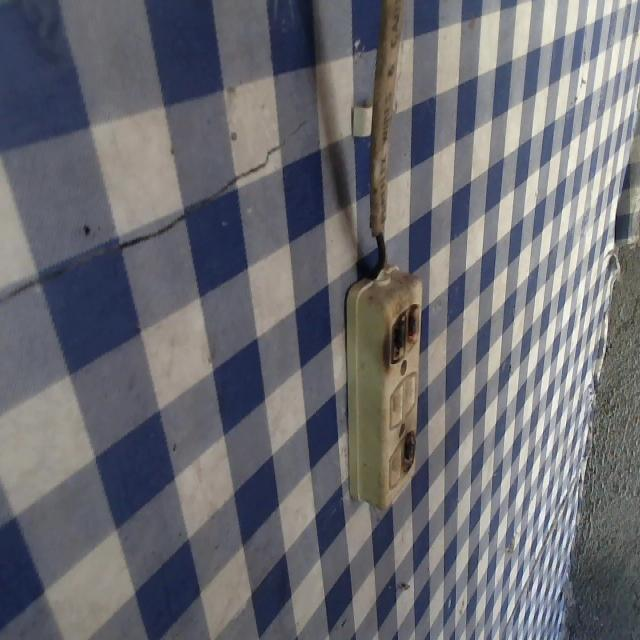-: (384, 304, 424, 364), (395, 421, 421, 475)
